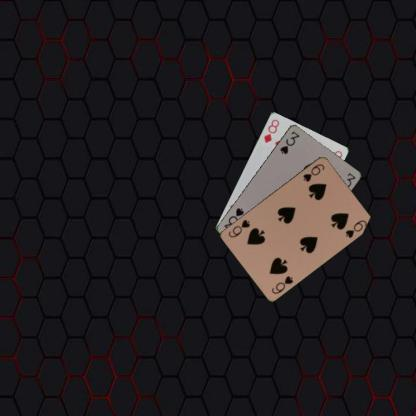3s: (278, 128, 300, 156)
6s: (300, 161, 326, 183), (269, 272, 294, 294)
8d: (261, 117, 280, 144)
